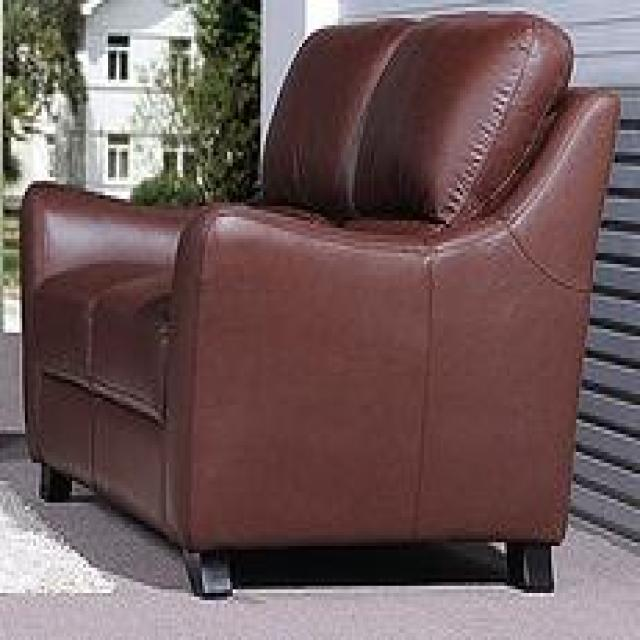sofa: (17, 11, 622, 595)
